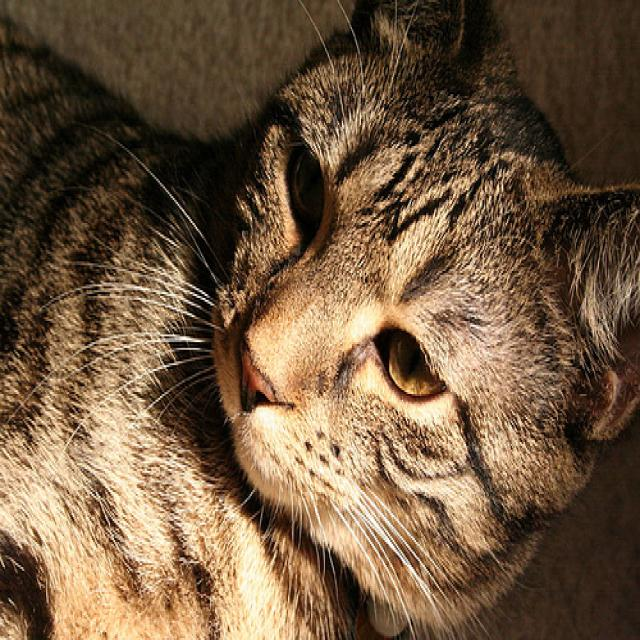cat: (1, 1, 640, 639)
